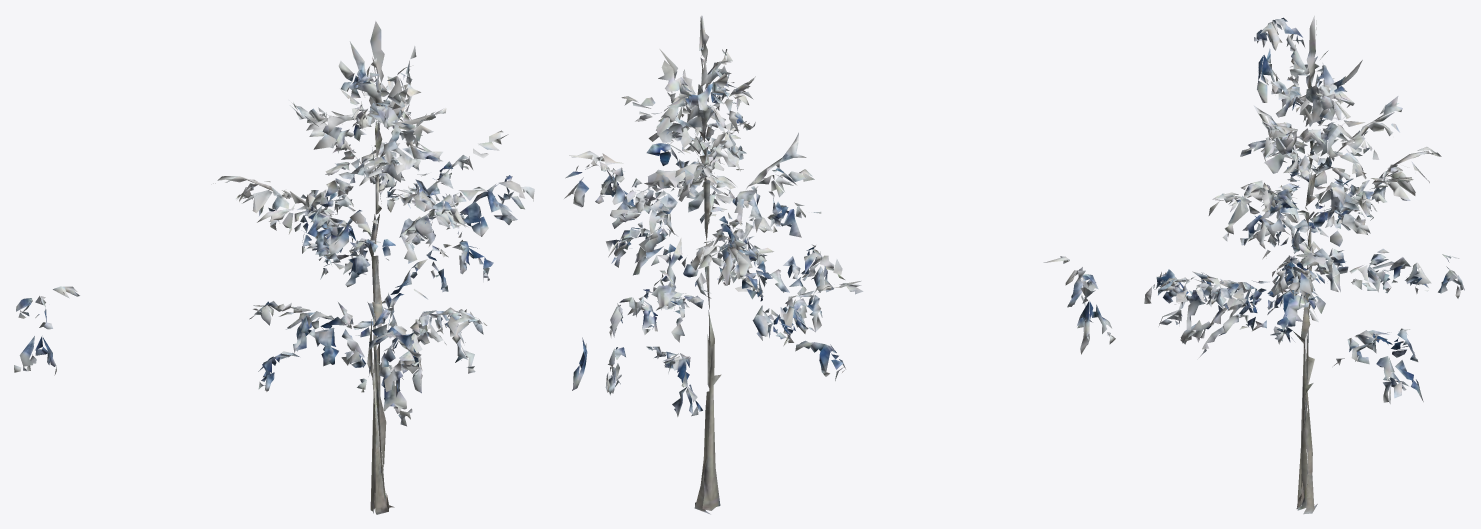
File: betula_gelida_broto.glb
The picture shows the model from 3 angles, left to right: view 1: azimuth 30°, elevation 25°; view 2: azimuth 150°, elevation 25°; view 3: azimuth 270°, elevation 25°; orthographic projection.
Visible parts, largest first — view 1: geometry_0.010; view 2: geometry_0.010; view 3: geometry_0.010.
Part boxes in pixels (x1,y1,x2,y2): geometry_0.010: (14,21,534,514); geometry_0.010: (564,16,1115,514); geometry_0.010: (1144,15,1464,514).
Bounding box in the file's own units: 0.9545 × 0.8564 × 0.5026.
Materials: 1 (1 with a texture image).
